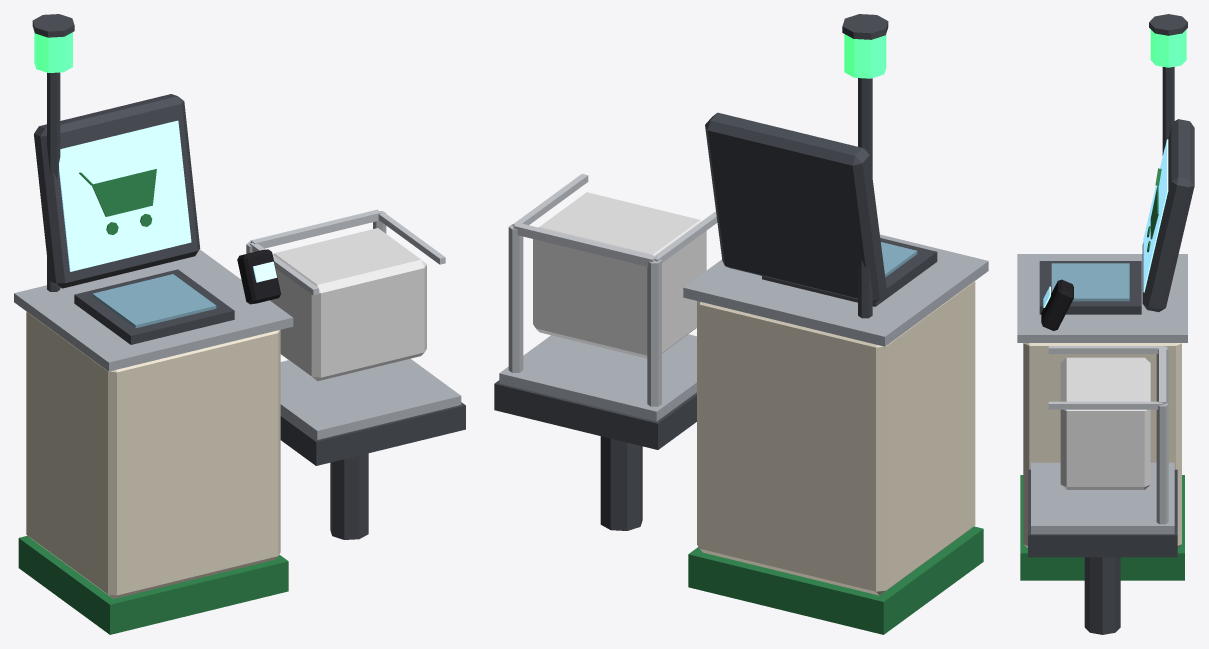
File: Self_Checkout_Kiosk.fbx
The picture shows the model from 3 angles, left to right: view 1: azimuth 30°, elevation 25°; view 2: azimuth 150°, elevation 25°; view 3: azimuth 270°, elevation 25°; orthographic projection. The views are drawn at different scales.
Parts seen in each view (by area): view 1: Self_Checkout_Kiosk; view 2: Self_Checkout_Kiosk; view 3: Self_Checkout_Kiosk.
Part boxes in pixels (x1,y1,x2,y2): Self_Checkout_Kiosk: [14, 14, 465, 634]; Self_Checkout_Kiosk: [494, 14, 988, 634]; Self_Checkout_Kiosk: [1017, 14, 1194, 634].
Size of the model in its own units: 1.26 by 1.81 by 0.5919.
Materials: 1 (1 with a texture image).
